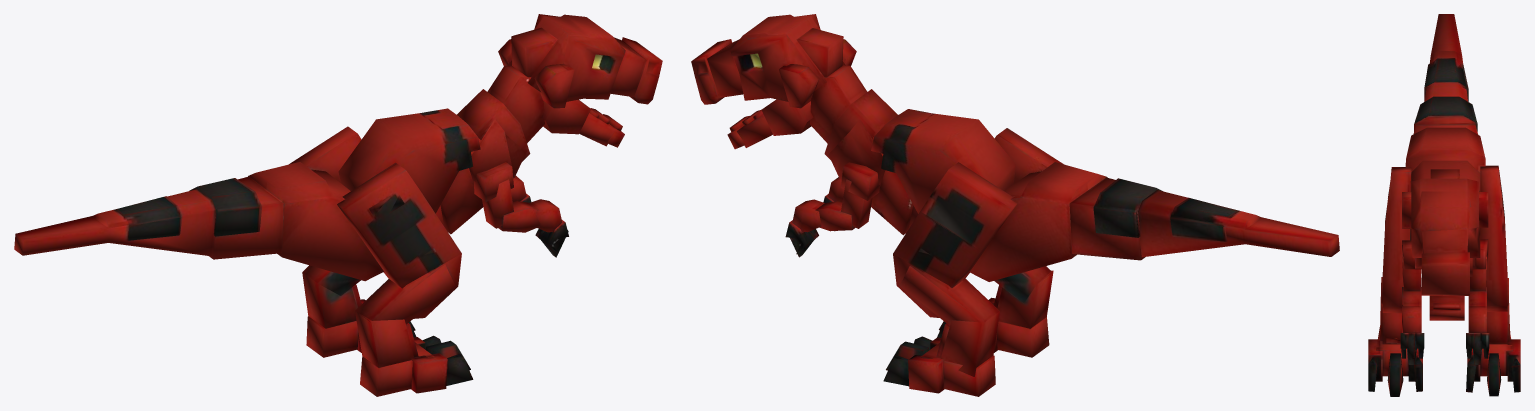
File: velociraptor.glb
3 views of the same model, side by side, from view 1: azimuth 30°, elevation 25°; view 2: azimuth 150°, elevation 25°; view 3: azimuth 270°, elevation 25° (orthographic). The views are drawn at different scales.
Visible parts, largest first — view 1: tripo_node_fca8f397-b61b-4058-9322-b81ff0f8803b; view 2: tripo_node_fca8f397-b61b-4058-9322-b81ff0f8803b; view 3: tripo_node_fca8f397-b61b-4058-9322-b81ff0f8803b.
Boxes of the visible parts, box(x1,y1,x2,y2) form: tripo_node_fca8f397-b61b-4058-9322-b81ff0f8803b: box(14, 14, 662, 396); tripo_node_fca8f397-b61b-4058-9322-b81ff0f8803b: box(691, 14, 1339, 396); tripo_node_fca8f397-b61b-4058-9322-b81ff0f8803b: box(1368, 14, 1520, 396).
Bounding box in the file's own units: 0.998 × 0.4473 × 0.2285.
Materials: 1 (1 with a texture image).
